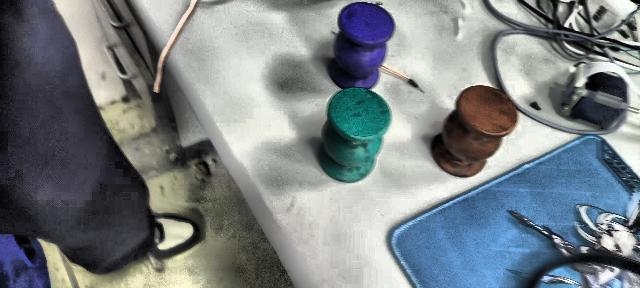blue: (328, 0, 395, 92)
green: (313, 86, 392, 185)
red: (428, 86, 518, 176)
